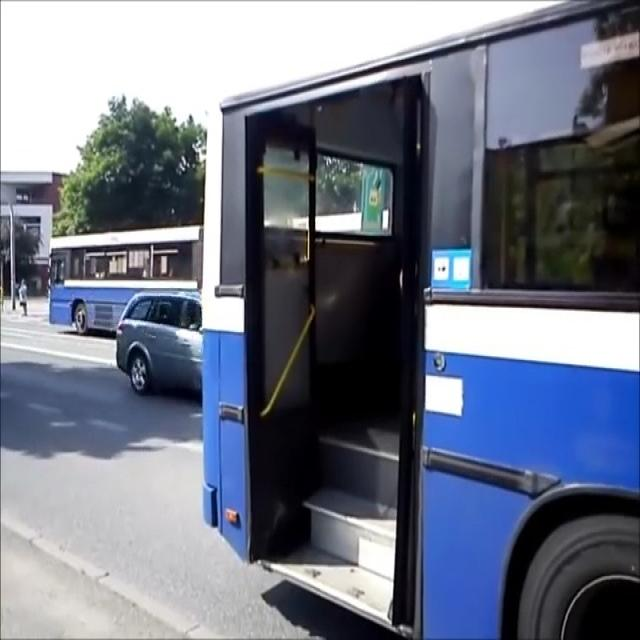bus-door: (249, 117, 318, 558), (392, 78, 420, 606)
